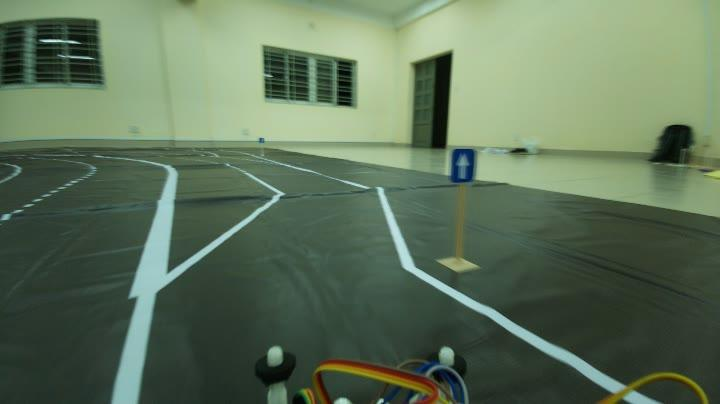onewayroad: (448, 146, 482, 186)
